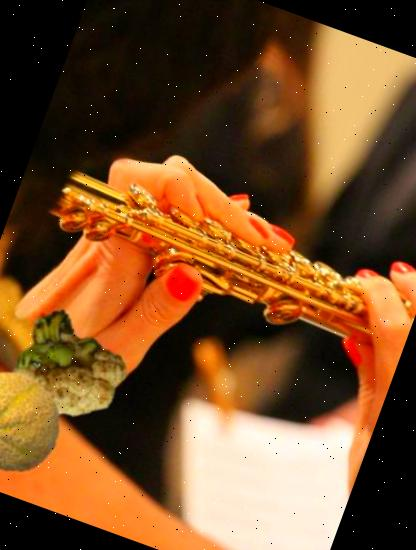Cantaloupe: (0, 354, 76, 487)
Cauliflower: (0, 286, 142, 440)
